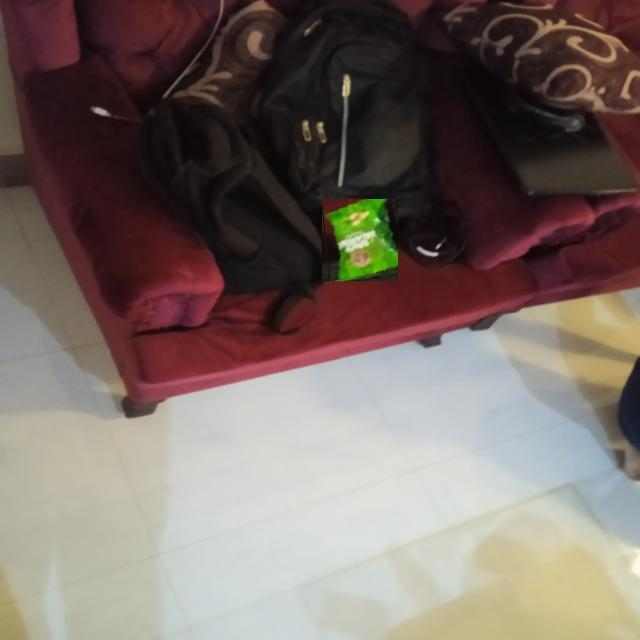Plastic: (321, 199, 398, 281)
